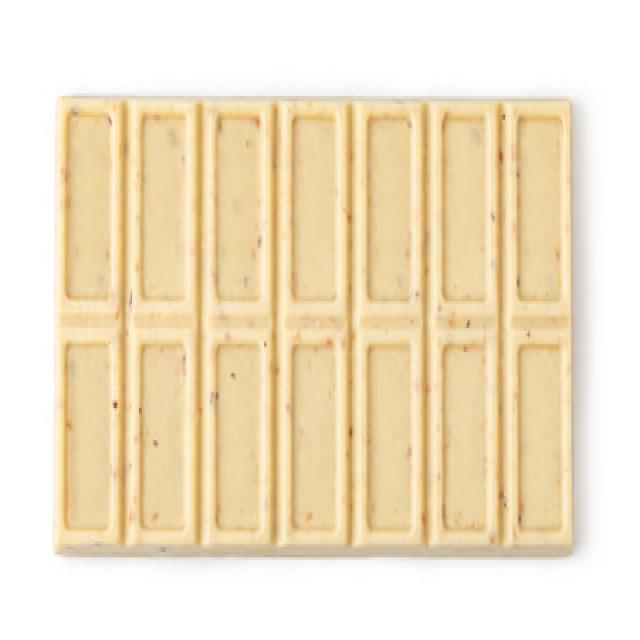chocolate: (57, 89, 576, 566)
